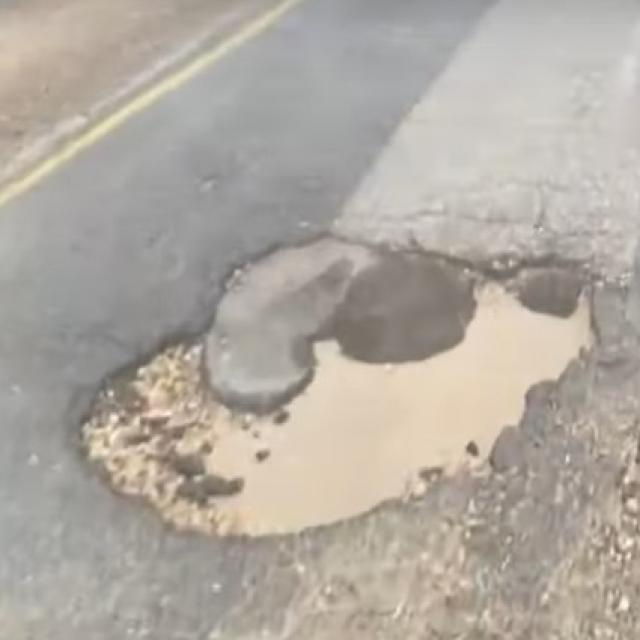major_pothole: (65, 230, 611, 541)
